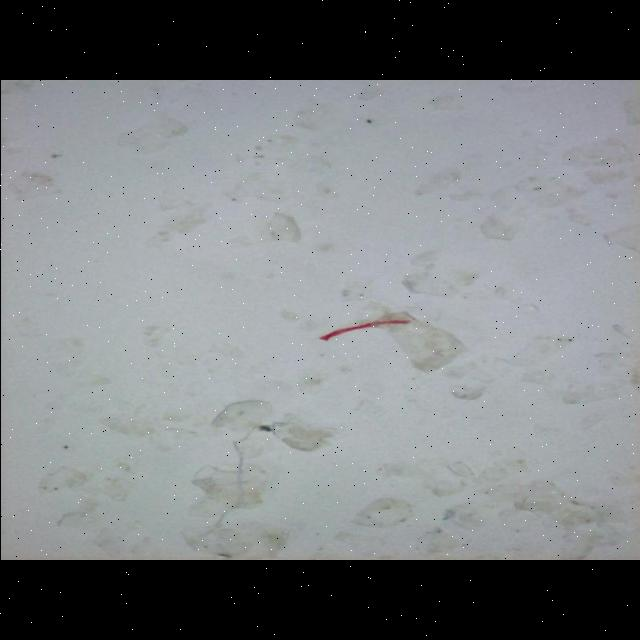Fibre: (310, 313, 420, 343)
